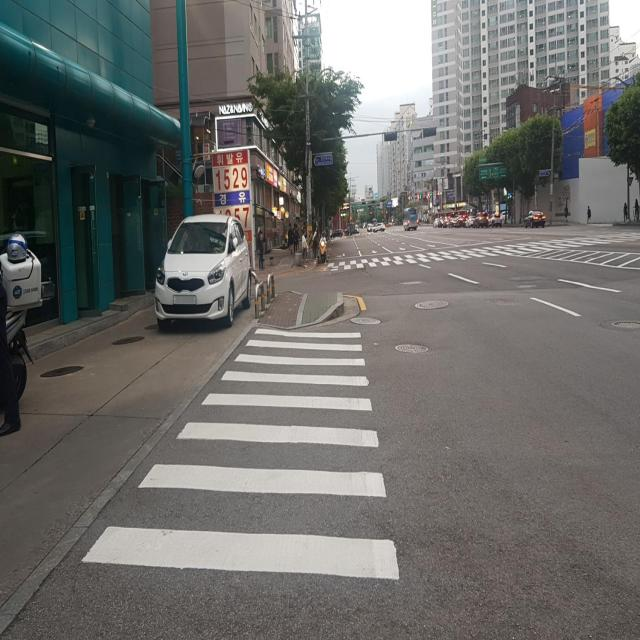횡단보도: (82, 329, 401, 583), (321, 231, 640, 273)
